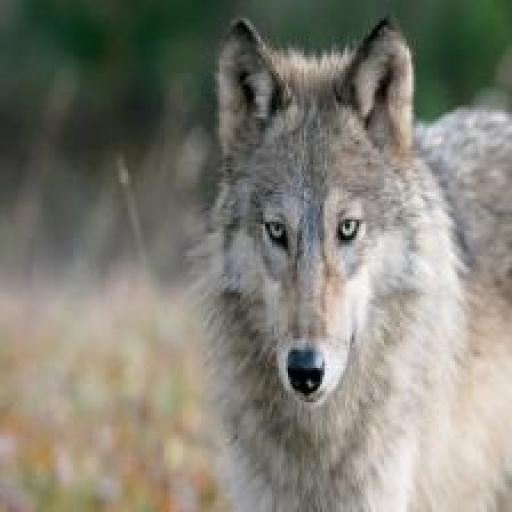wolf: (171, 0, 512, 512)
